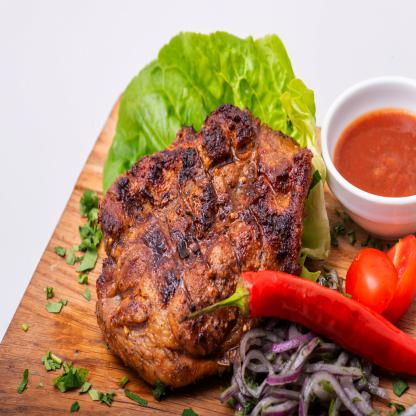Carne: (95, 116, 243, 373)
